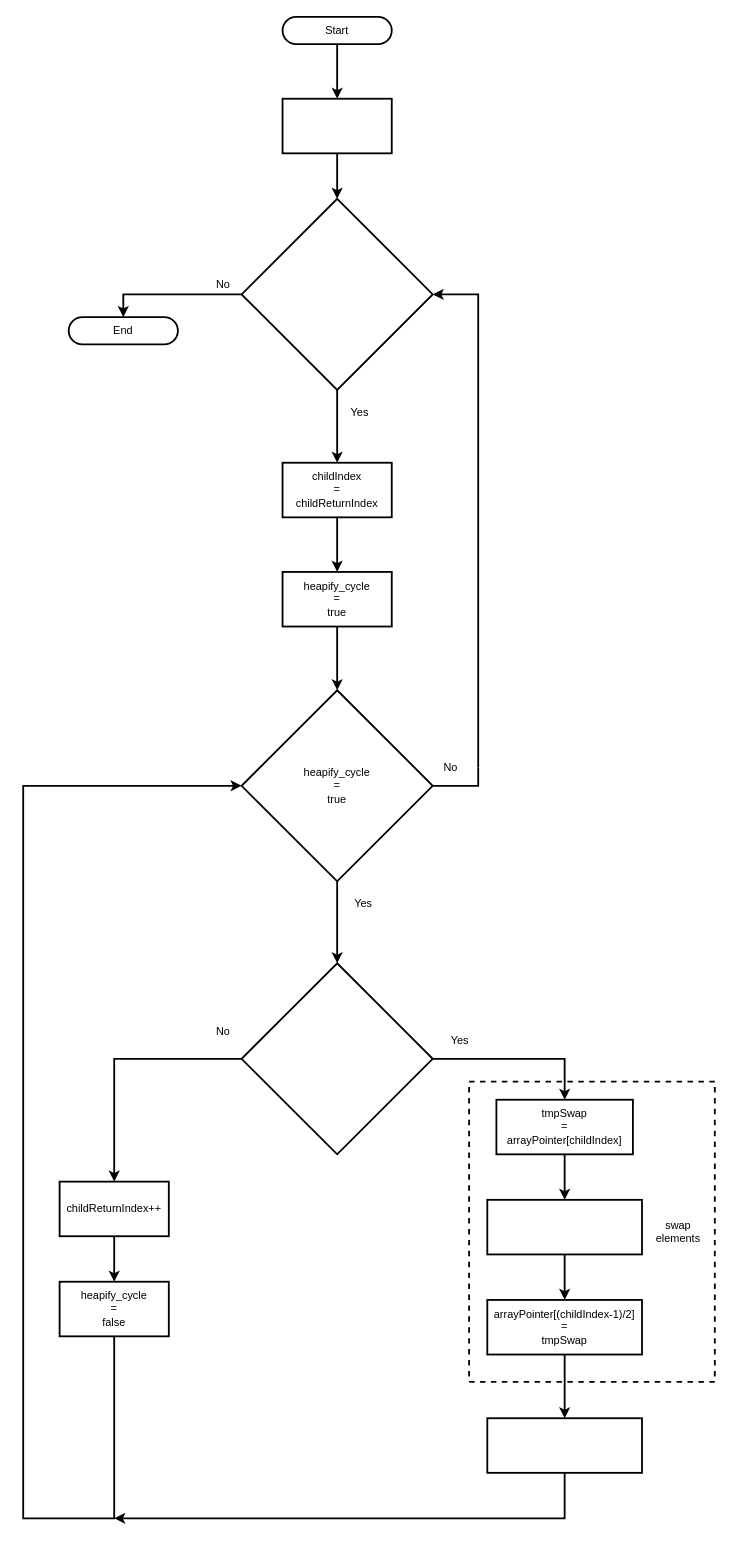
This 731x1542 diagram has some shape labels left out. The shapes that lost their labels are listed below. From the top down, each one's centre as x and y in pixels, then its label:
At point (336, 125): "childReturnIndex = 1".
At point (336, 293): "childReturnIndex < numElements".
At point (336, 1058): "arrayPointer[childIndex] > arrayPointer[(childIndex-1)/2]".
At point (564, 1226): "arrayPointer[childIndex] = arrayPointer[(childIndex-1)/2]".
At point (564, 1445): "childIndex = (childIndex-1)/2".
